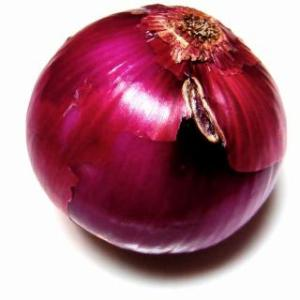onion: (22, 4, 288, 258)
